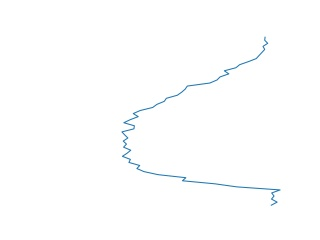underwaterDistributaryChannel: (114, 37, 290, 206)
